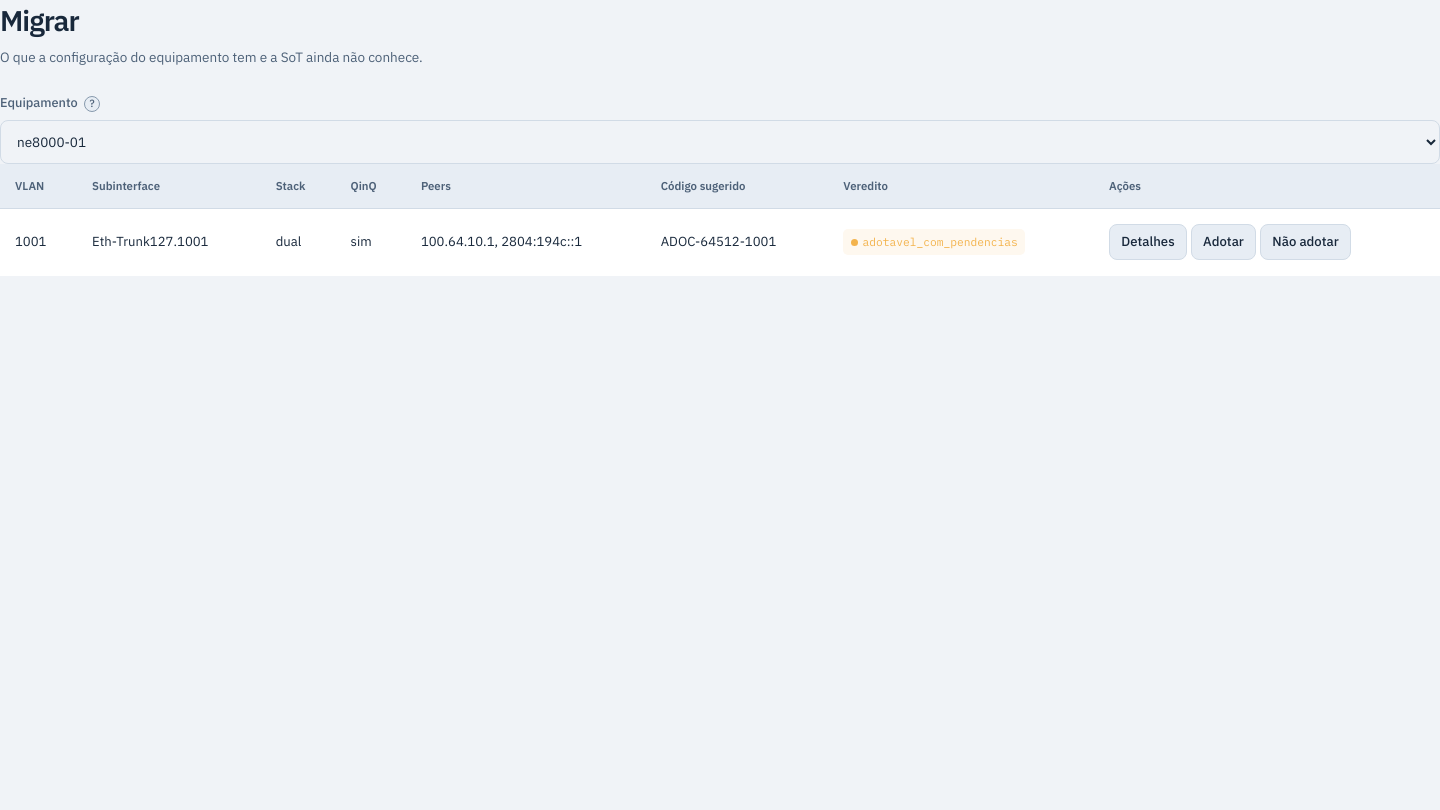
Test: Discovery › no enlace dual o botão retira os dois peers e o diálogo nomeia os dois
This screenshot has width=1440, height=810.
Click the button "Não adotar" at (1306, 242), box 1260,224 -> 1351,260
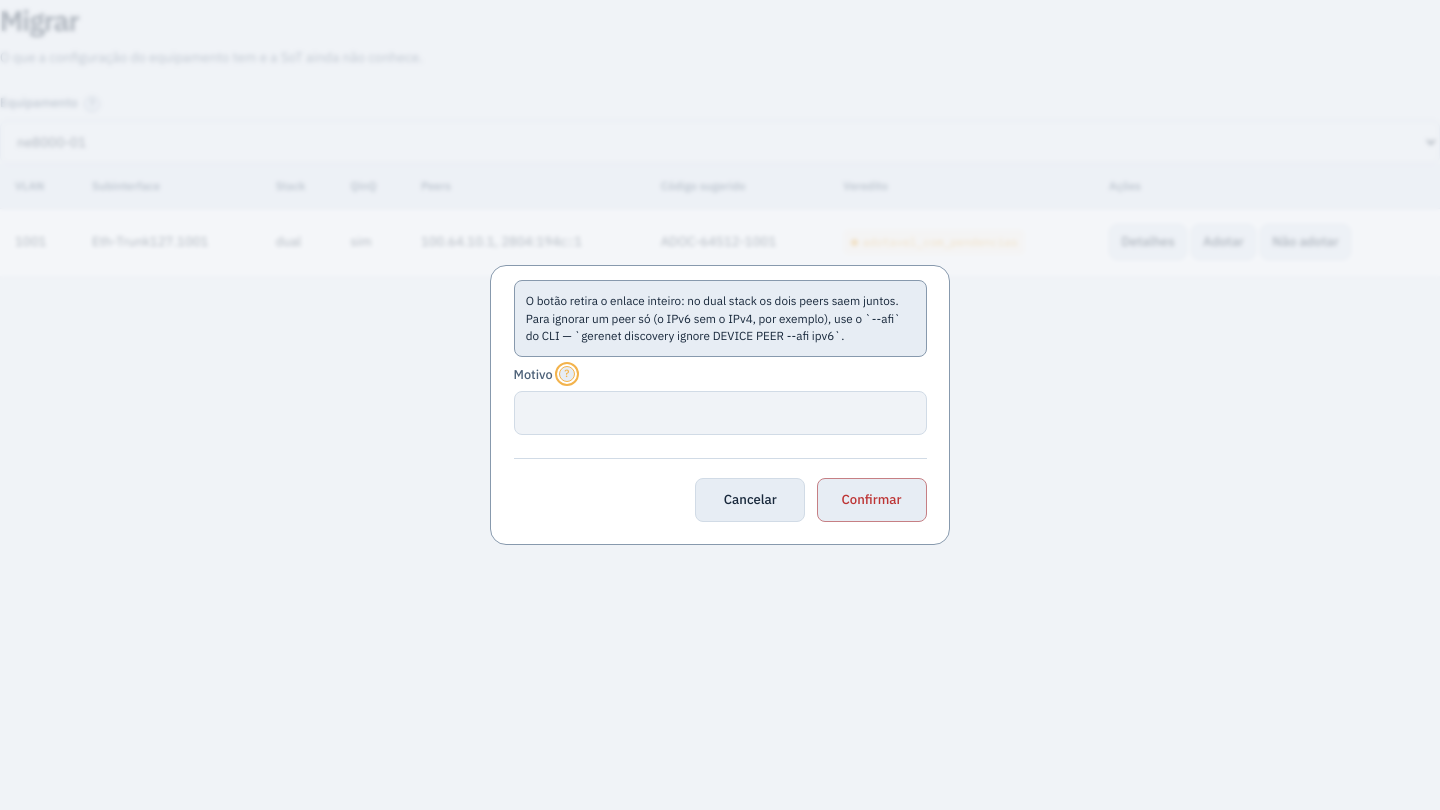
Expected: the text "Saem da lista: 100.64.10.1 (ipv4), 2804:194c::1 (ipv6)." is shown, 514,327 -> 926,350
Click the button "Confirmar" at (872, 500), box 816,478 -> 926,522
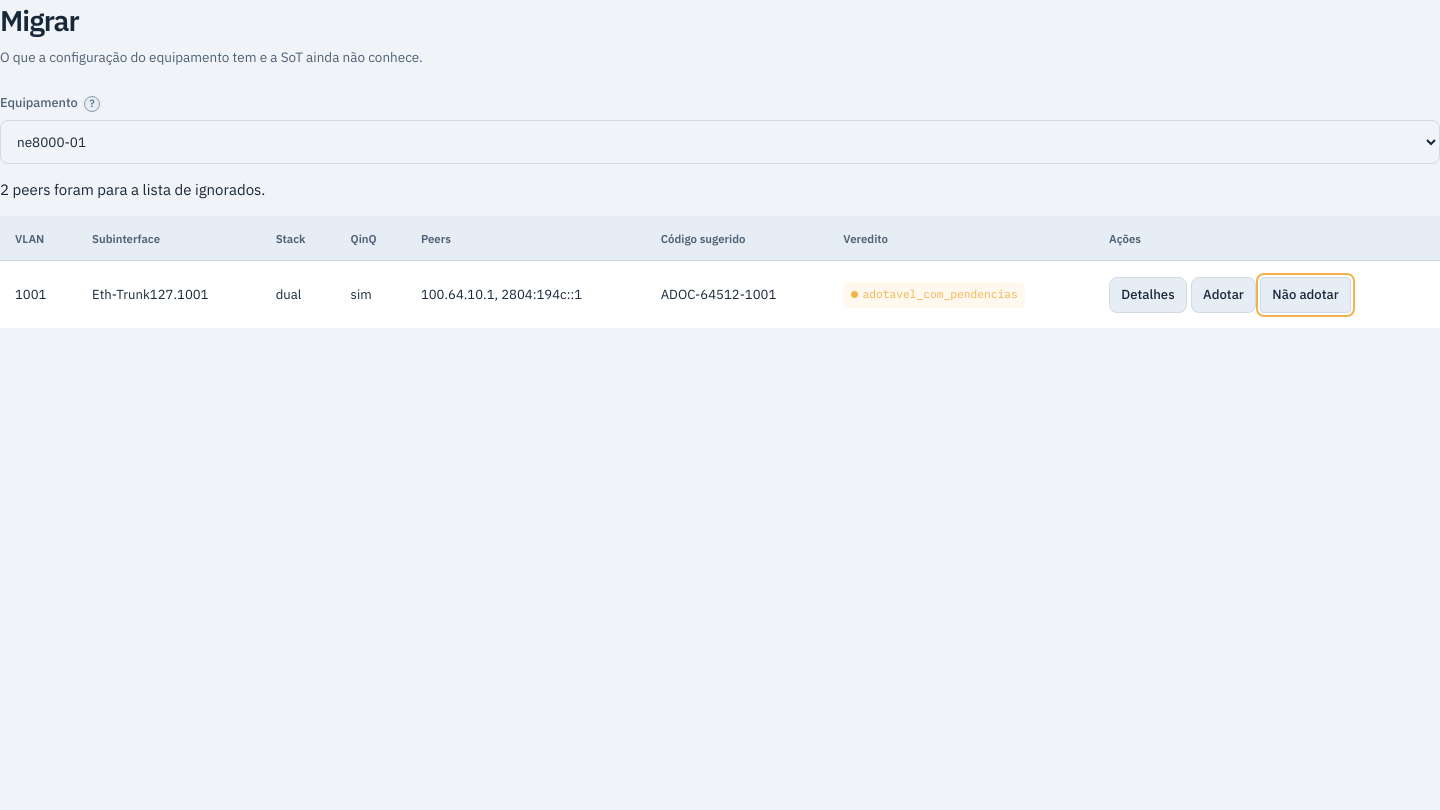
Expected: the message reads "2 peers foram para a lista de ignorados.", 0,180 -> 265,199
